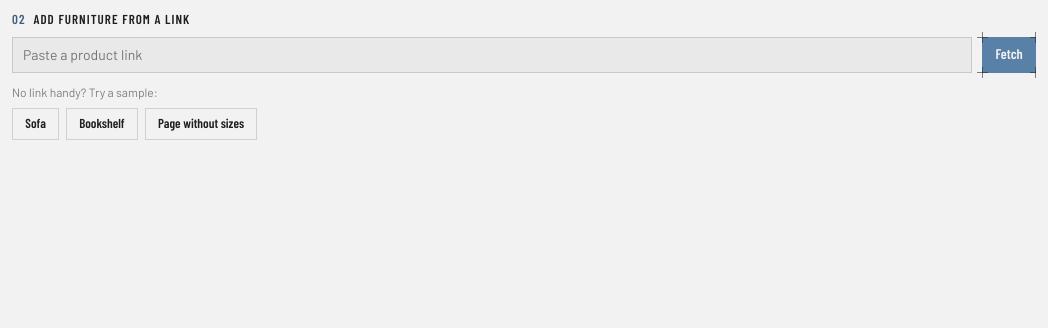
AddFurnitureSection › re-seeds on a units change even when the draft happens to parse to the stored length
This screenshot has width=1048, height=328.
Step 1. Click the button "Sofa" → {"x": 36, "y": 124}, box [12,108,59,140]
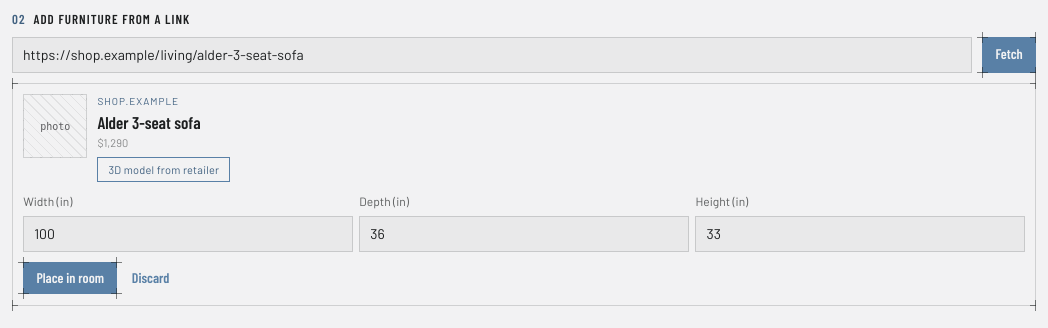
Step 2. Replace the text in the number field labelled "Width (in)" with "254.0" → {"x": 188, "y": 234}, box [23,216,352,252]
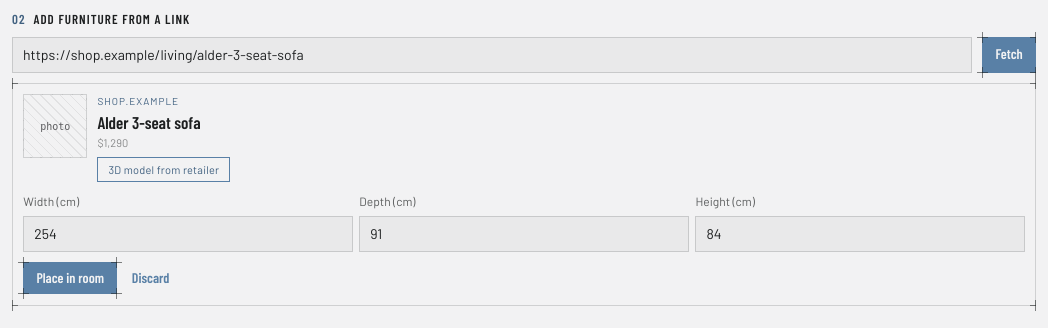
Expected: the number field labelled "Width (cm)" holds "254", [23,216,352,252]
